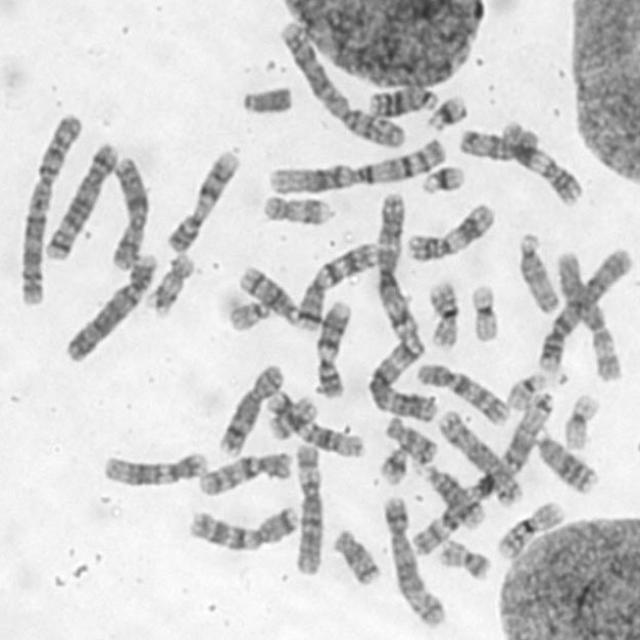A1: (408, 386, 558, 560), (261, 130, 450, 196)
A2: (276, 12, 408, 151), (13, 108, 84, 308)
A3: (372, 186, 423, 357), (363, 331, 441, 423)
B4: (534, 240, 637, 375), (60, 245, 161, 364)
B5: (41, 135, 121, 261), (379, 488, 450, 629)
C10: (414, 356, 514, 427), (193, 444, 295, 498)
C11: (496, 114, 586, 208), (402, 197, 498, 263)
C12: (262, 385, 366, 460), (97, 444, 211, 488)
C6: (547, 242, 631, 382), (288, 437, 328, 578)
C7: (292, 237, 383, 332), (184, 498, 302, 553)
C8: (435, 405, 526, 507), (213, 358, 286, 458)
C9: (162, 143, 244, 255), (310, 295, 354, 400)
D13: (531, 424, 600, 495), (364, 79, 441, 119)
D14: (413, 457, 487, 530), (235, 258, 303, 326)
D15: (514, 226, 564, 316), (454, 118, 542, 162)
E16: (492, 494, 567, 560), (422, 274, 463, 350)
E17: (143, 246, 196, 317), (258, 188, 335, 227)
E18: (328, 521, 382, 586), (380, 410, 439, 464)
F19: (560, 387, 604, 451), (466, 277, 504, 344)
F20: (435, 531, 494, 583), (266, 393, 320, 442)
G21: (422, 88, 470, 132), (375, 440, 411, 487)
G22: (502, 367, 550, 412), (224, 293, 274, 333)
X: (105, 150, 153, 270)
Y: (237, 79, 295, 117)
